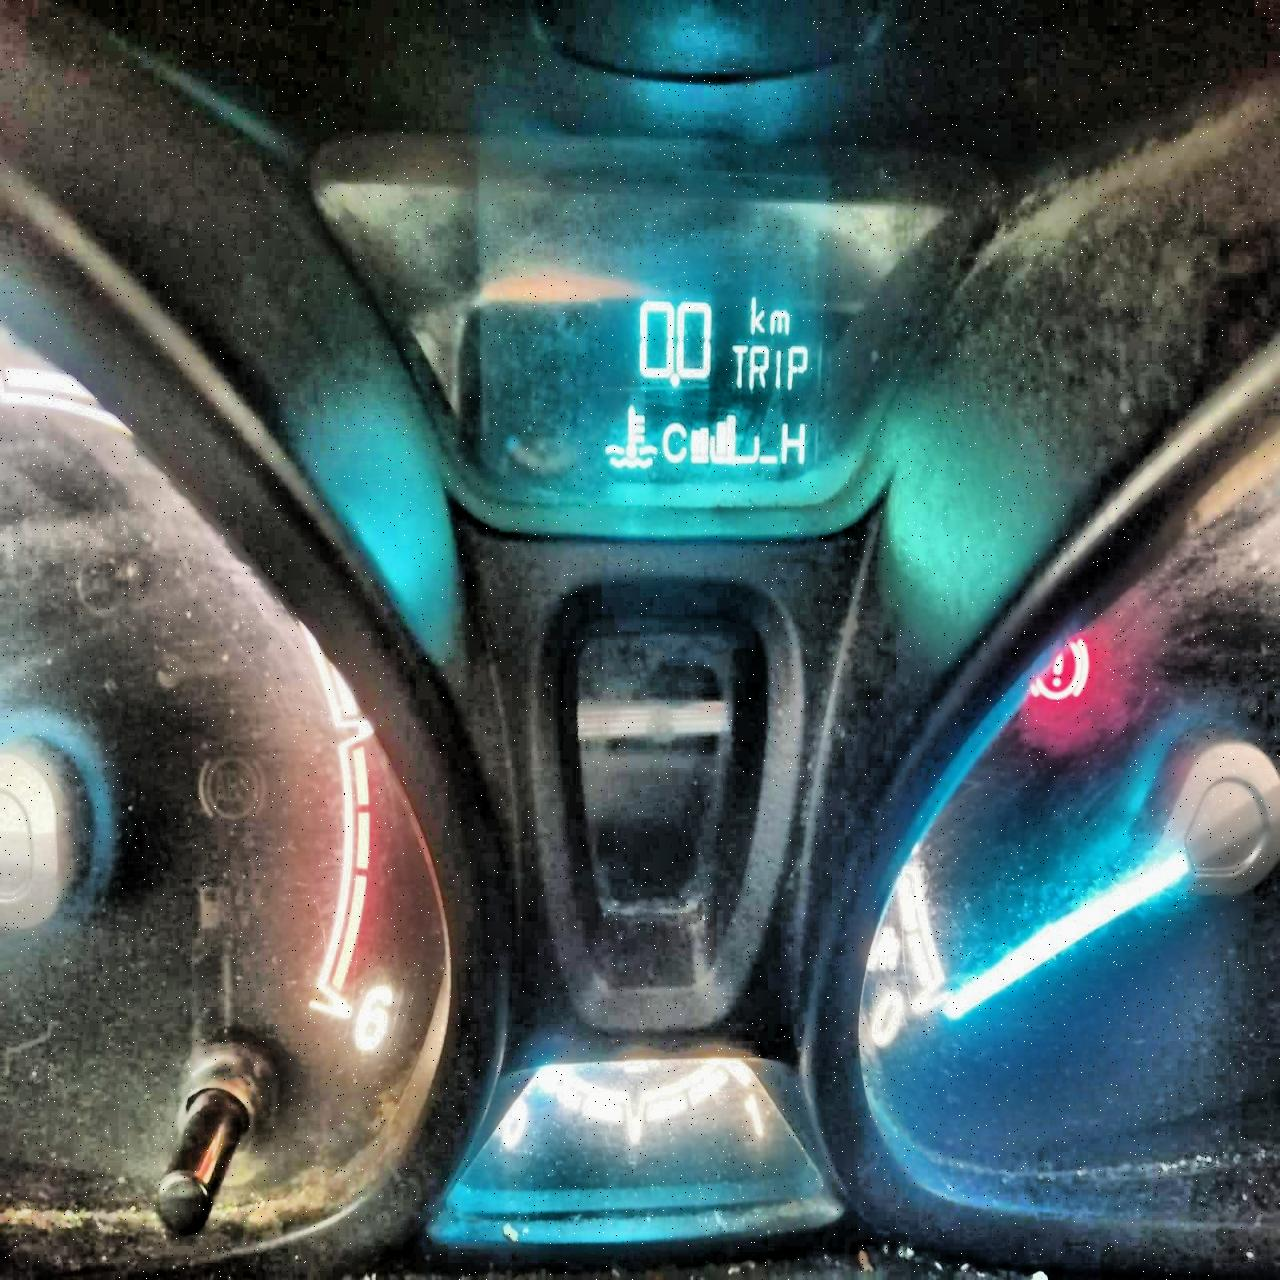-: (669, 373, 679, 389)
0: (634, 295, 674, 380), (675, 295, 712, 380)
X: (777, 418, 808, 467), (659, 417, 689, 465), (784, 341, 810, 390), (747, 342, 770, 389), (728, 340, 748, 389), (747, 292, 765, 335), (768, 307, 790, 336), (771, 343, 784, 389)
odometer: (441, 279, 874, 496)
